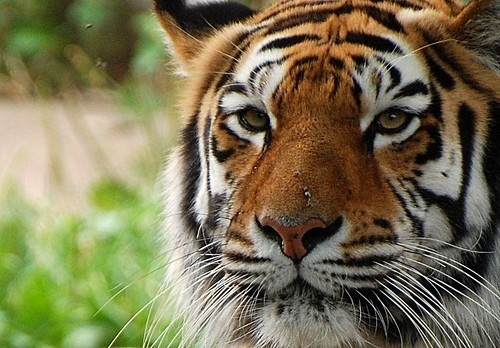tigre: (120, 2, 500, 347)
